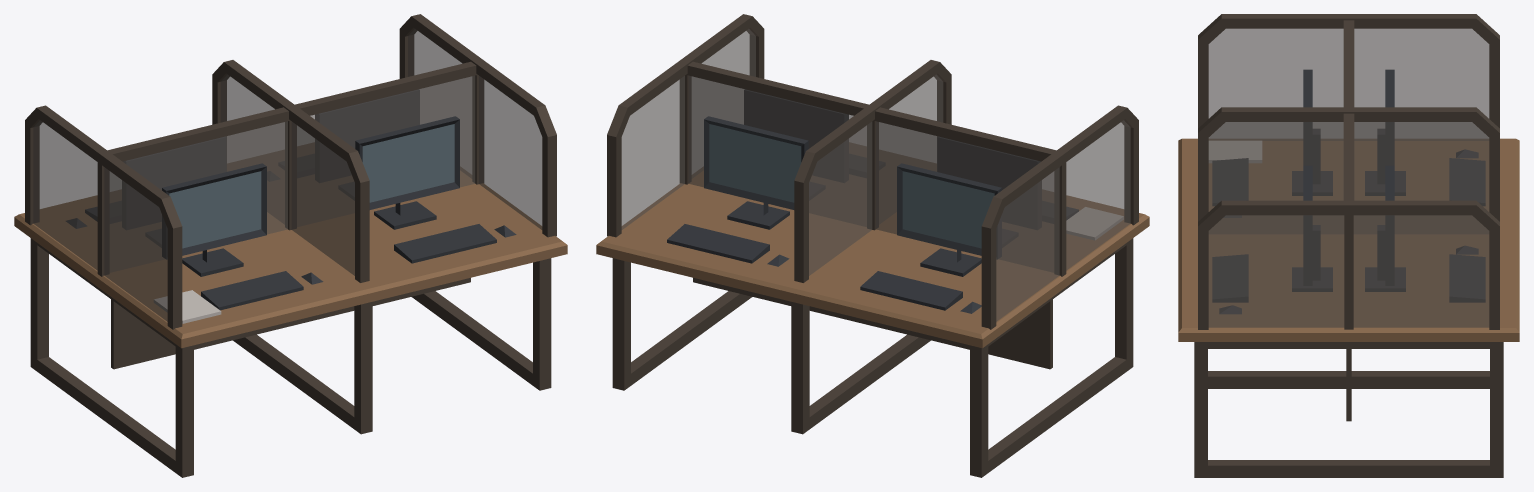
Rendered from computer-bench-run-lit-87d9cf.glb.
3 renders of one model, left to right at view 1: azimuth 30°, elevation 25°; view 2: azimuth 150°, elevation 25°; view 3: azimuth 270°, elevation 25°, orthographic. The views are drawn at different scales.
Parts seen in each view (by area): view 1: bench, glazing, dressing-mesh; view 2: bench, glazing, dressing-mesh; view 3: bench, glazing, dressing-mesh.
Boxes of the visible parts, x1,y1,x2,y2 form: bench: [14, 14, 567, 477]; glazing: [33, 29, 542, 321]; dressing-mesh: [154, 290, 221, 323]; bench: [596, 14, 1149, 477]; glazing: [621, 29, 1130, 321]; dressing-mesh: [1066, 207, 1123, 240]; bench: [1178, 14, 1519, 477]; glazing: [1208, 28, 1489, 327]; dressing-mesh: [1209, 141, 1261, 162].
Bounding box in the file's own units: 2 × 1.34 × 1.5.
